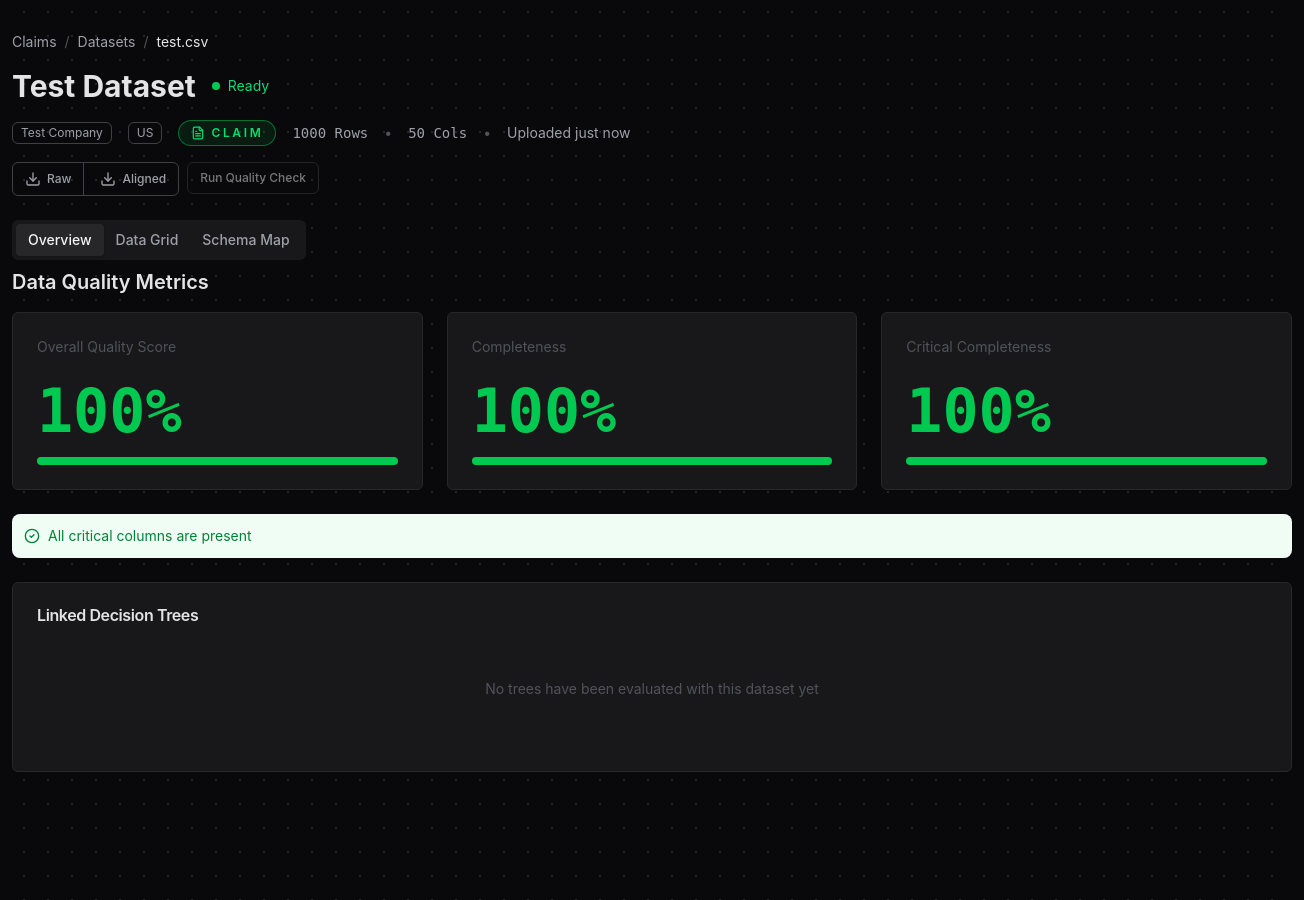
Scenario: DatasetDetail - Write Gating Integration Tests › renders read-only view for client_user (Edit Mapping disabled, Tree Links hidden)
# Switch to Schema Map tab
Click the button "Schema Map" at (246, 240), box [190,224,302,256]
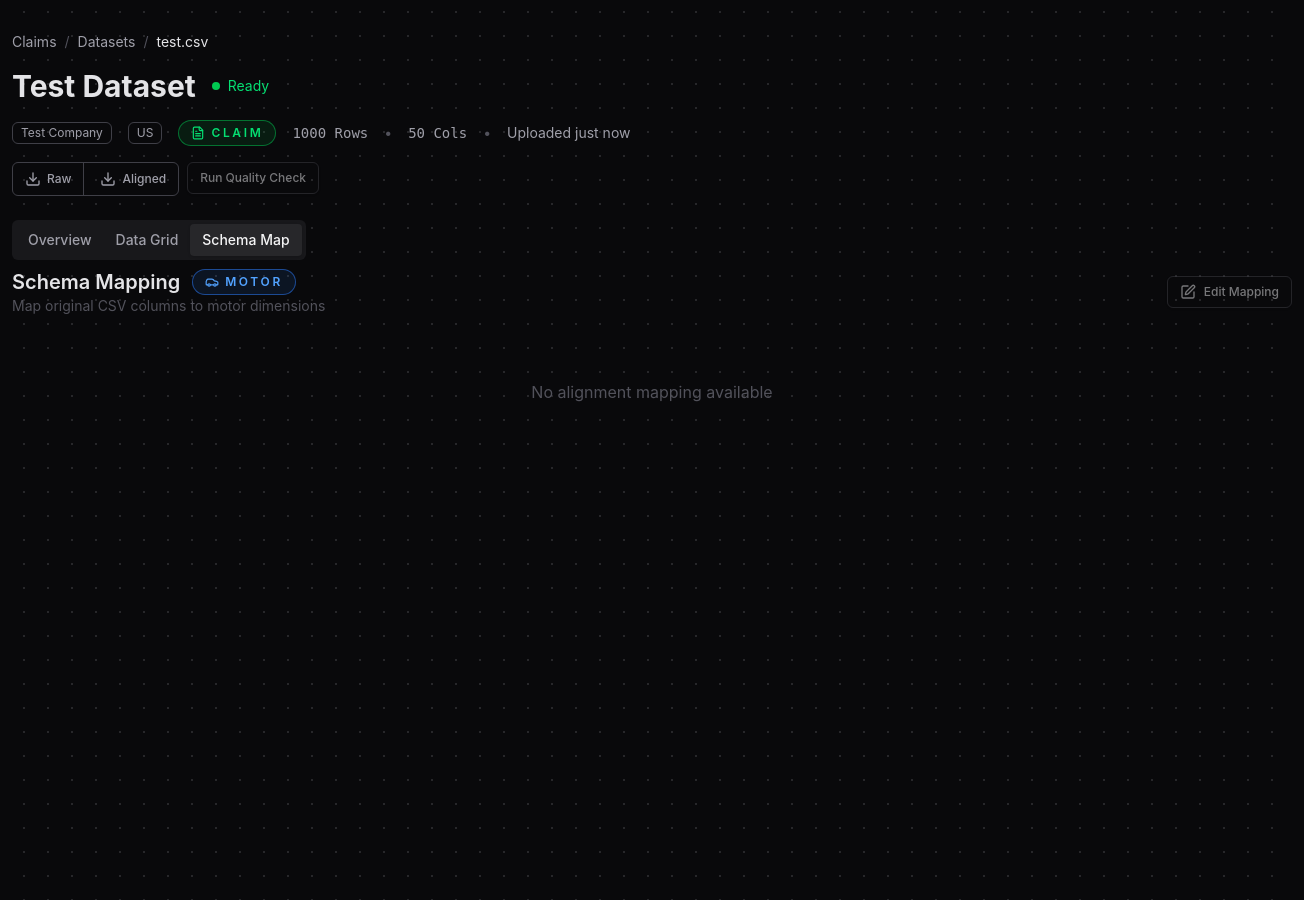
Check: the button "Edit Mapping" is disabled, box [1167,276,1292,308]
